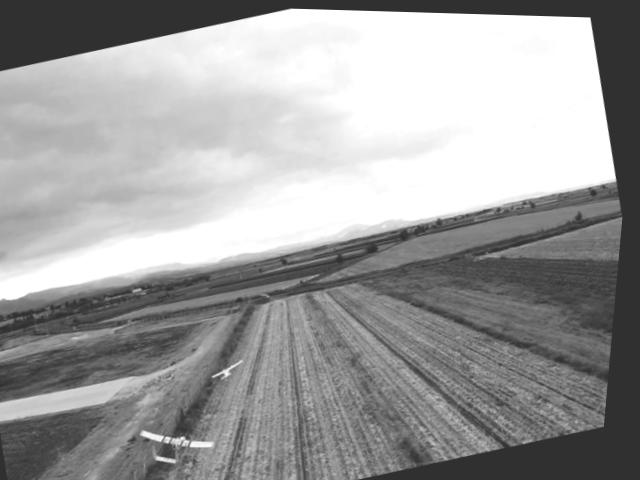hedef: (139, 408, 232, 477)
